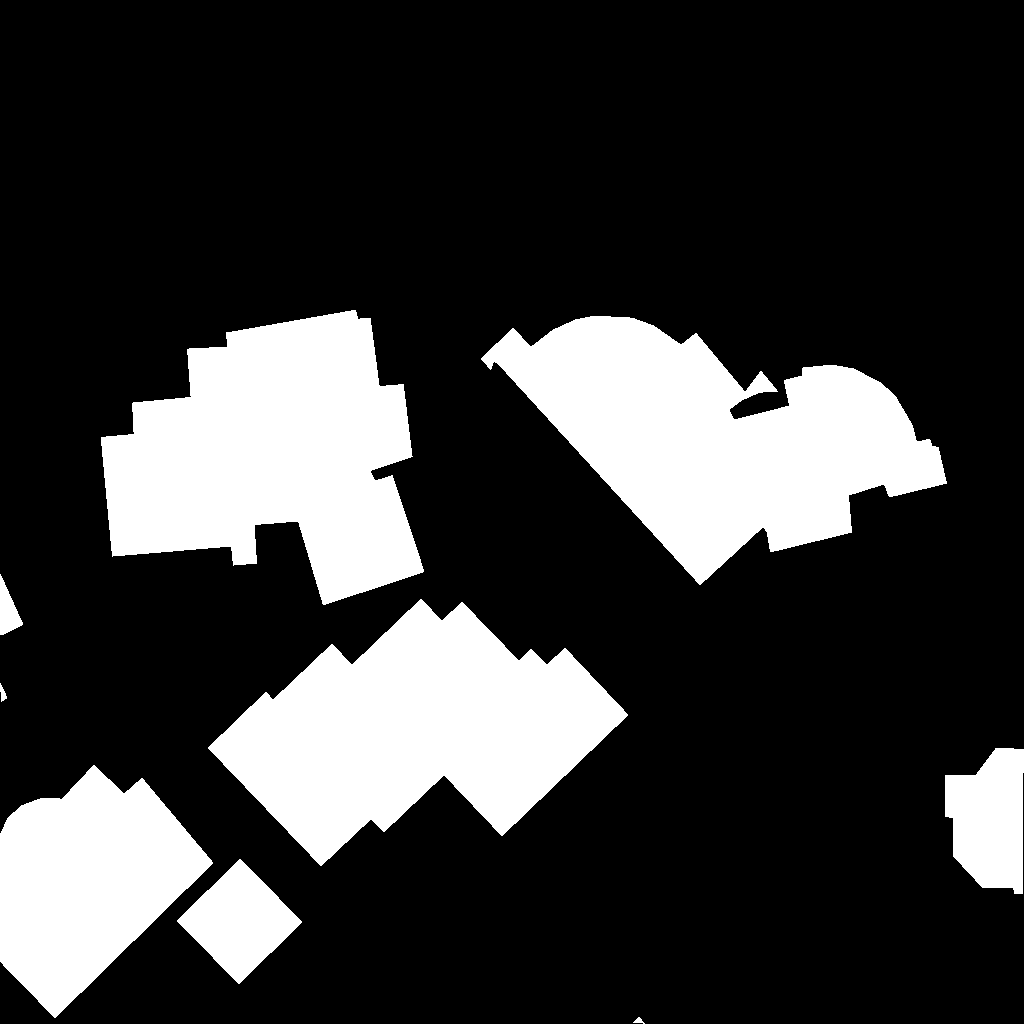building: (481, 316, 948, 586), (208, 599, 629, 867), (101, 310, 425, 606), (0, 765, 214, 1019), (177, 859, 303, 985), (945, 748, 1024, 894), (0, 573, 24, 703), (633, 1017, 646, 1024)
